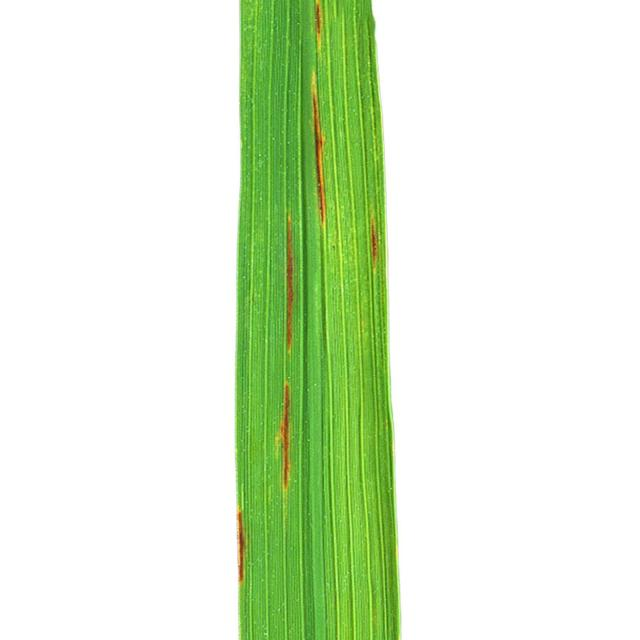Narrow brown: (204, 0, 462, 640)
